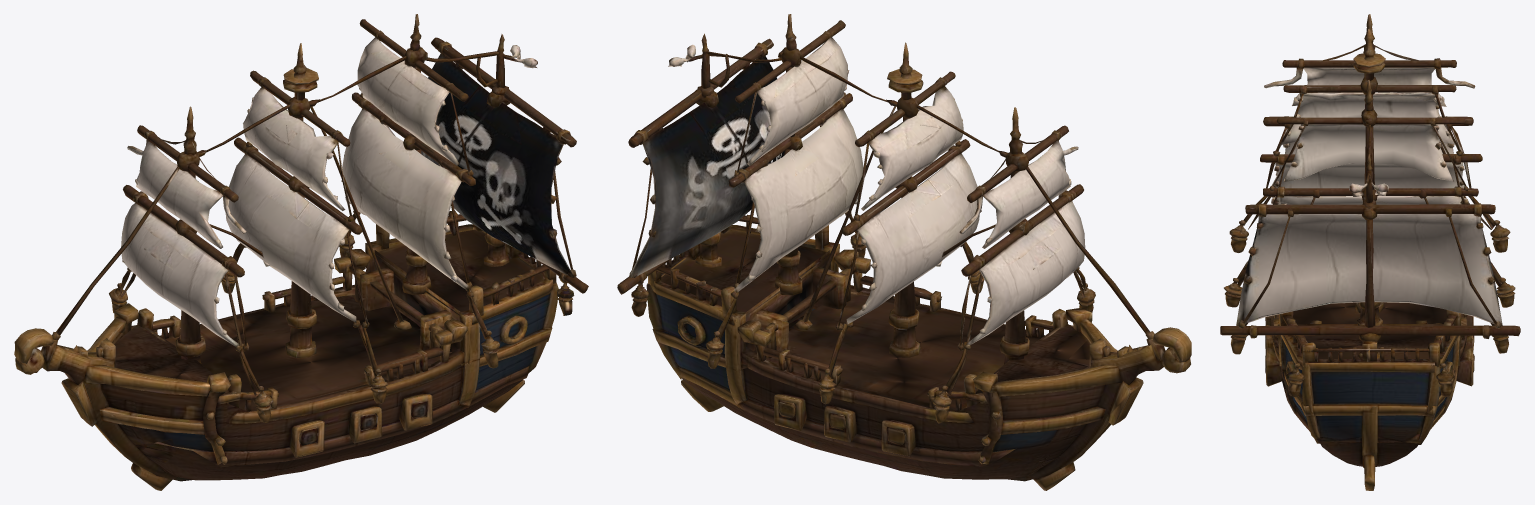
File: corsair-pride.glb
3 views of the same model, side by side, from view 1: azimuth 30°, elevation 25°; view 2: azimuth 150°, elevation 25°; view 3: azimuth 270°, elevation 25° (orthographic). The views are drawn at different scales.
Parts seen in each view (by area): view 1: mesh_node; view 2: mesh_node; view 3: mesh_node.
Part boxes in pixels (box(x1,y1,x2,y2)): mesh_node: box(14, 14, 588, 490); mesh_node: box(617, 14, 1191, 490); mesh_node: box(1220, 14, 1520, 490).
Size of the model in its own units: 1 by 0.7773 by 0.5625.
1 material, 1 textured.
